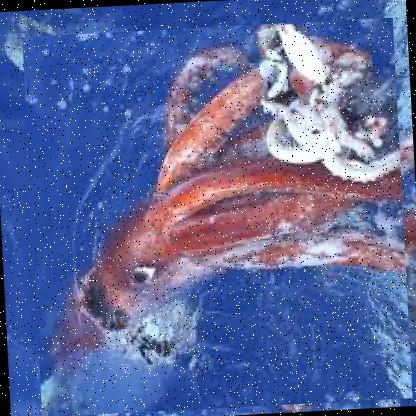colossal_squid: (22, 16, 414, 415)
